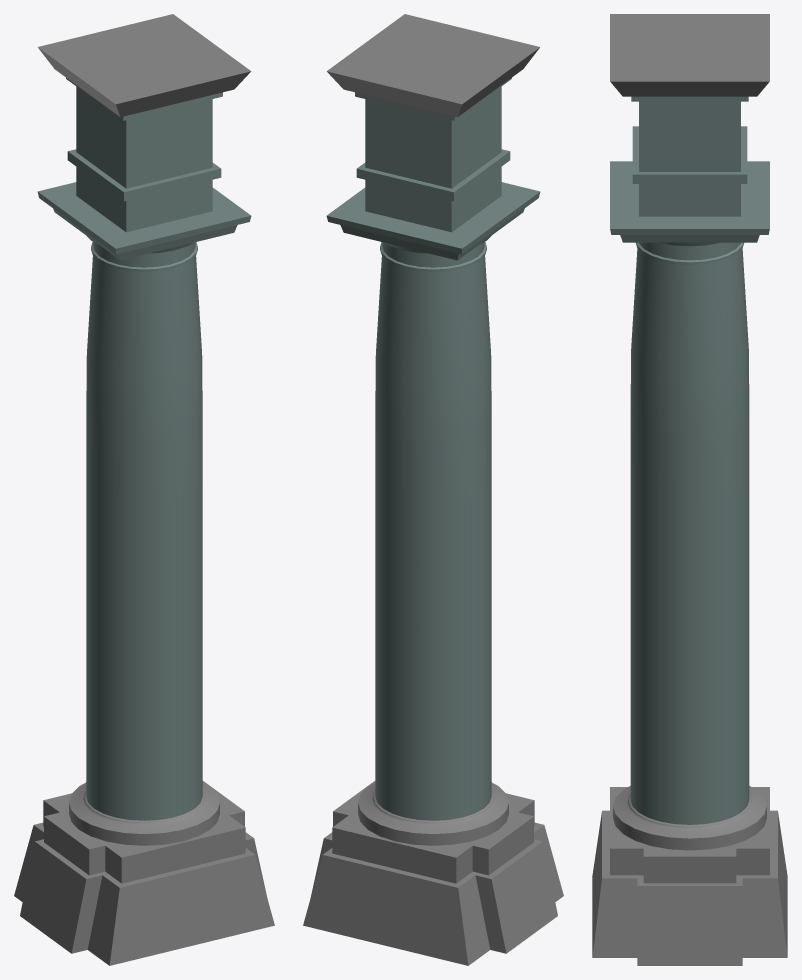
The model's file is SM_Build01_Column_01.fbx.
3 views of the same model, side by side, from view 1: azimuth 30°, elevation 25°; view 2: azimuth 150°, elevation 25°; view 3: azimuth 270°, elevation 25° (orthographic). The views are drawn at different scales.
Parts seen in each view (by area): view 1: SM_Build01_Column_01; view 2: SM_Build01_Column_01; view 3: SM_Build01_Column_01.
Part boxes in pixels (x1,y1,x2,y2): SM_Build01_Column_01: [14, 14, 274, 965]; SM_Build01_Column_01: [303, 14, 563, 965]; SM_Build01_Column_01: [592, 14, 787, 965].
Size of the model in its own units: 146 by 600 by 122.
